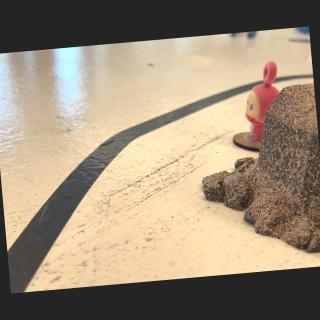teletubby: (245, 61, 279, 141)
